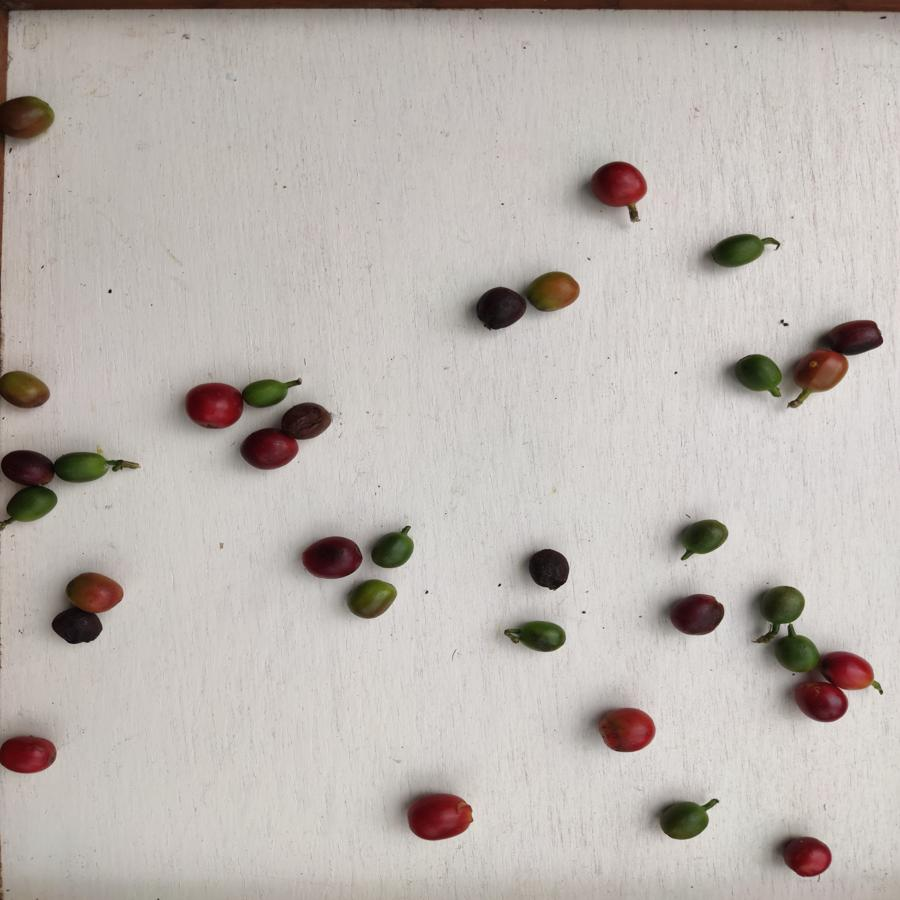Inmaduro: (732, 352, 789, 397), (657, 802, 716, 841), (771, 630, 818, 678), (366, 529, 415, 573), (708, 230, 767, 266), (6, 484, 57, 524), (758, 584, 805, 627), (682, 518, 732, 558), (511, 617, 568, 652), (52, 450, 109, 485), (247, 373, 285, 409)
Maduro: (586, 158, 658, 211), (404, 791, 476, 842), (594, 705, 660, 757), (182, 378, 247, 430), (1, 729, 59, 776), (820, 645, 877, 692), (783, 831, 835, 876)
Pinton: (524, 266, 585, 315), (794, 349, 853, 397), (1, 92, 56, 143), (61, 572, 124, 611), (1, 368, 53, 412), (348, 579, 399, 623)
Sobremaduro: (297, 531, 363, 581), (795, 676, 850, 726), (241, 427, 301, 471), (669, 593, 729, 636), (47, 606, 105, 647), (473, 286, 526, 330), (825, 315, 882, 355), (284, 401, 334, 440)
